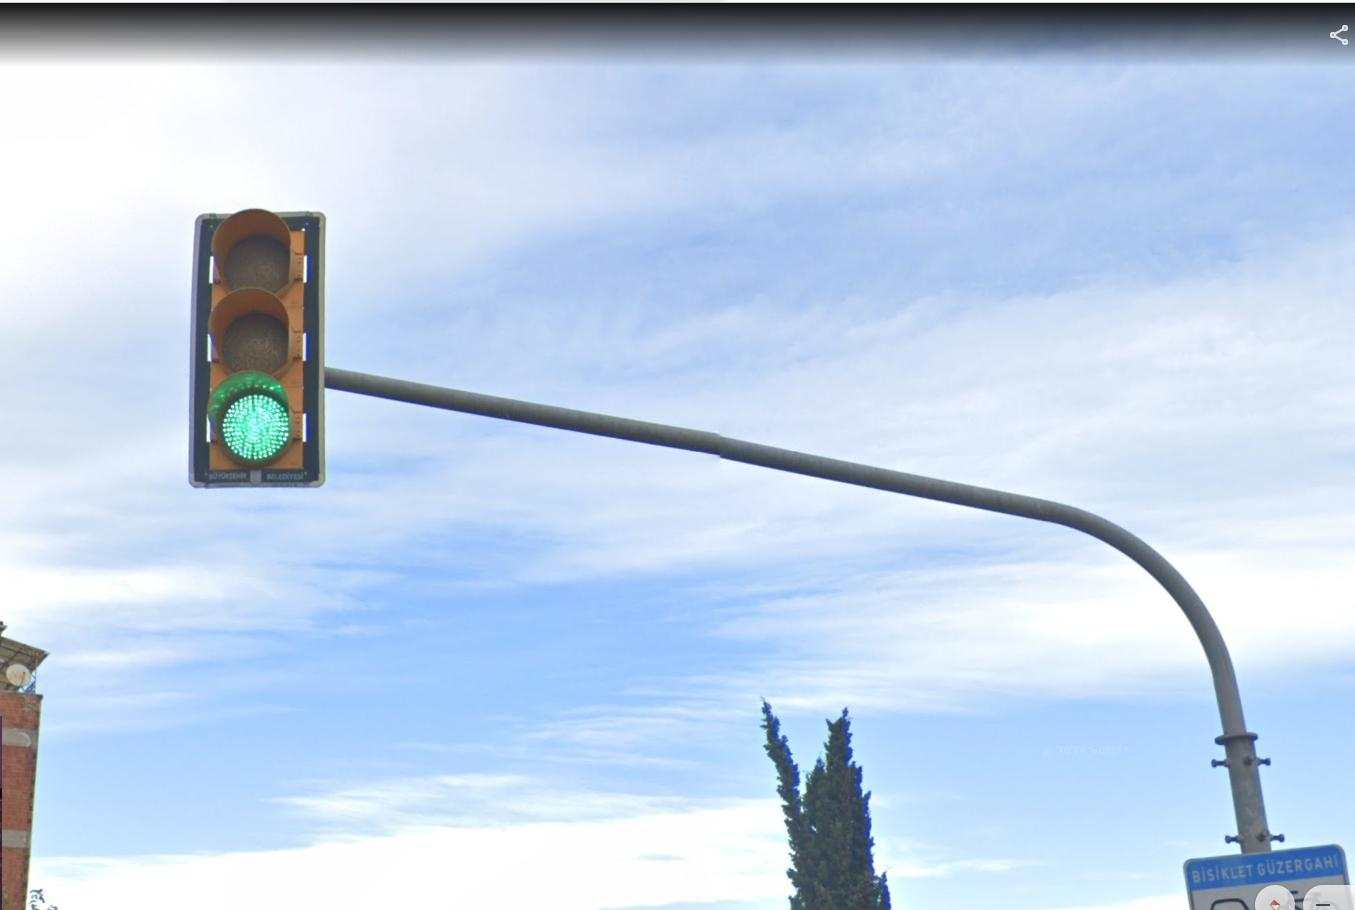greenlight: (193, 210, 321, 481)
